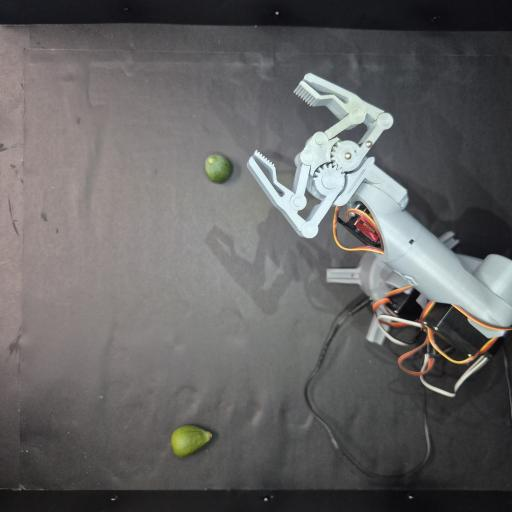higo: (171, 425, 212, 457), (204, 154, 233, 183)
